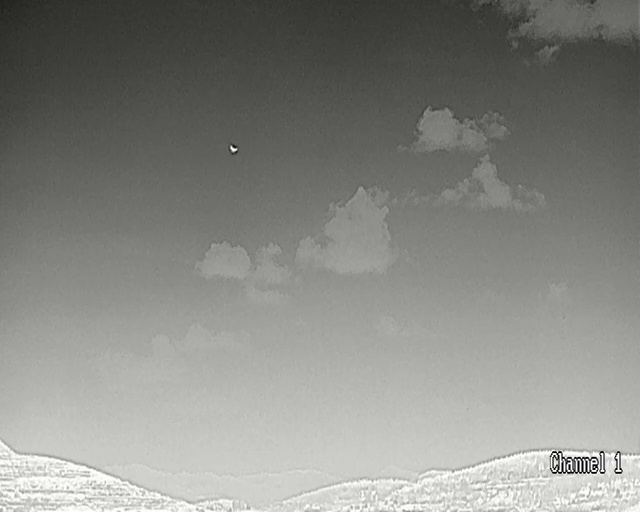uav: (229, 145, 237, 152)
